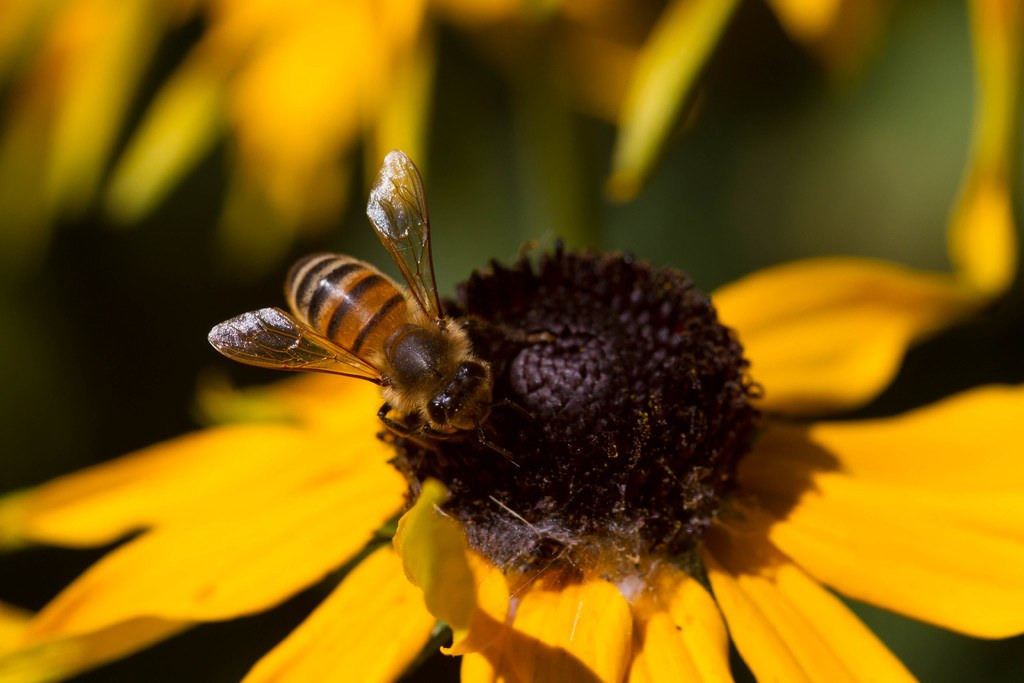bee: (225, 175, 503, 495)
insect: (0, 147, 1010, 682)
